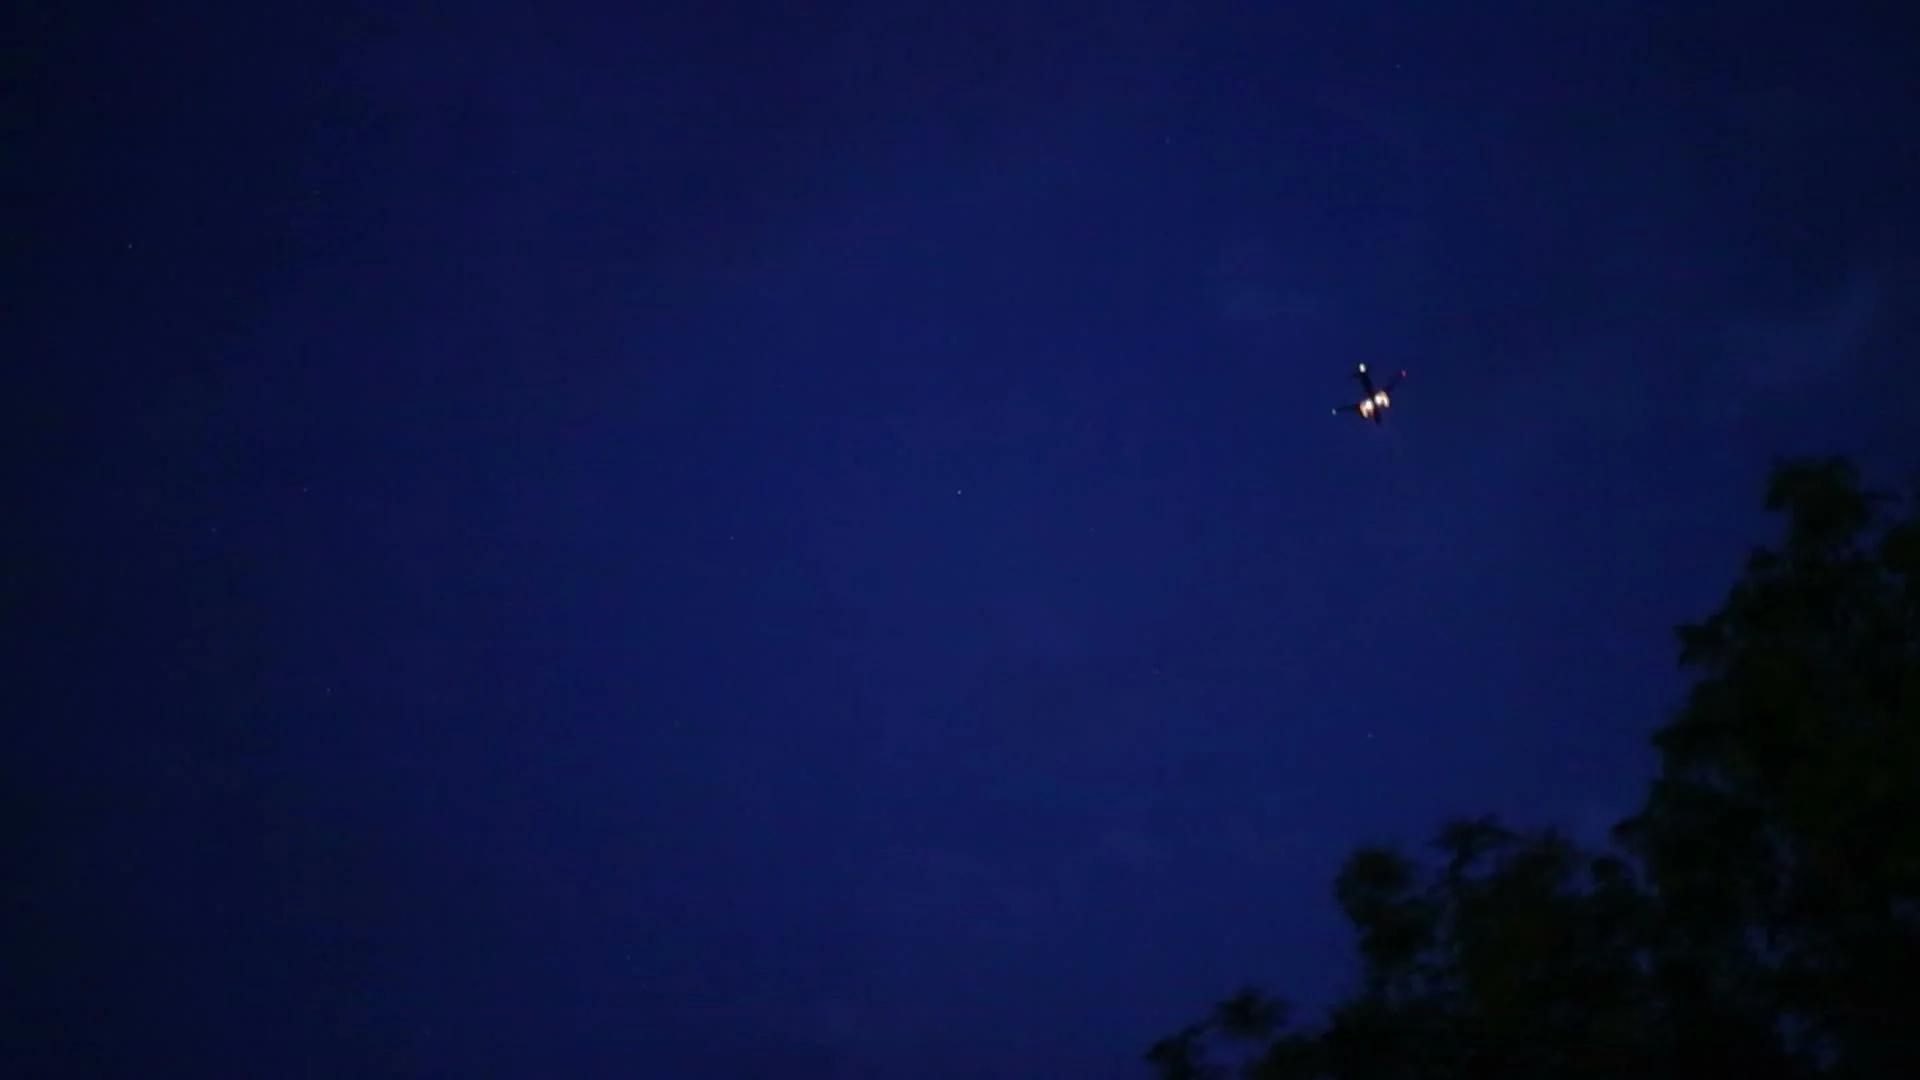Plane: (1327, 348, 1410, 438)
